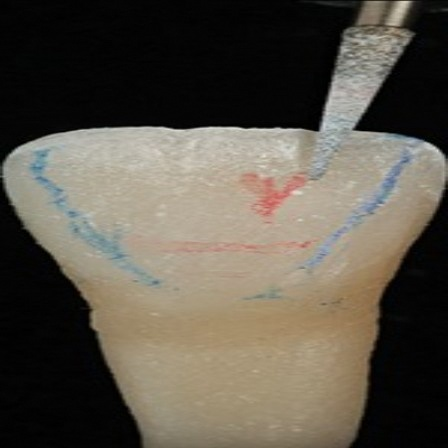coin_1: (92, 311, 112, 331)
coin_2: (44, 247, 64, 267)
coin_3: (379, 302, 399, 322)
coin_4: (430, 225, 448, 245)
